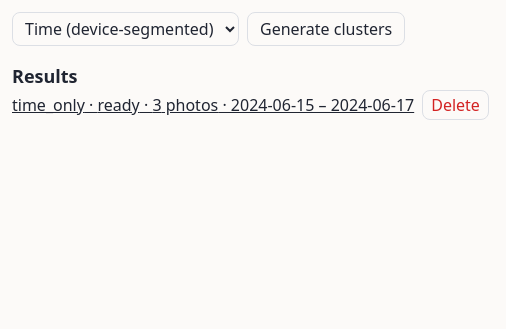
ClusterView › clears the open result when its run is deleted
Click the button with test id "result-row" at [213, 105], box [12,93,414,117]
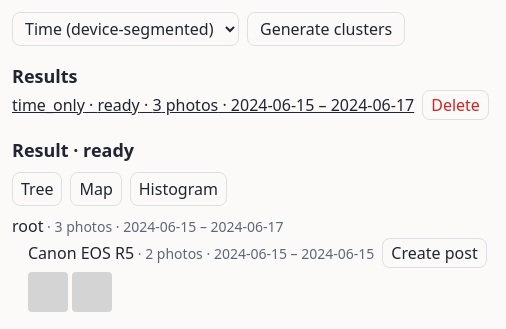
Check: the text "Canon EOS R5" is shown, box [28,242,134,264]
Click the button "Delete" at [456, 105], box [422,90,489,120]
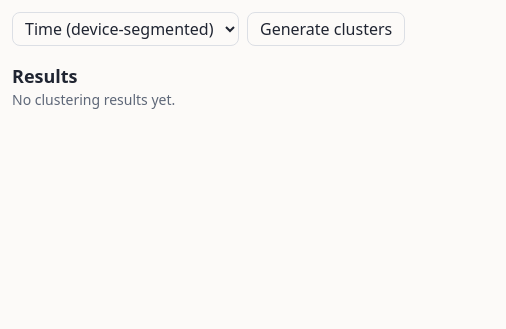
Check: the text "Canon EOS R5" is gone
